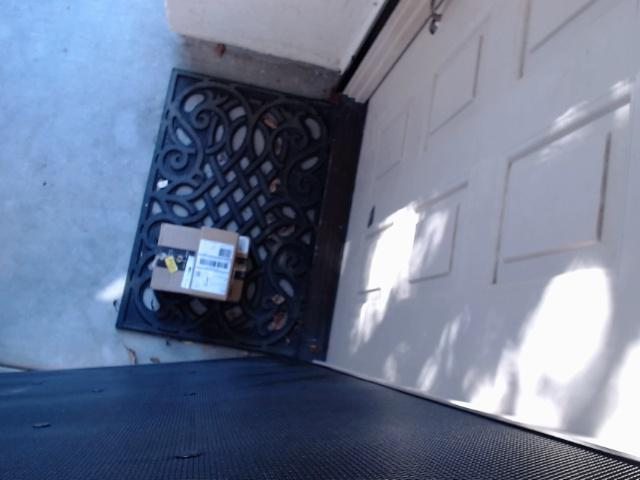box: (150, 222, 250, 303), (189, 227, 239, 302)
